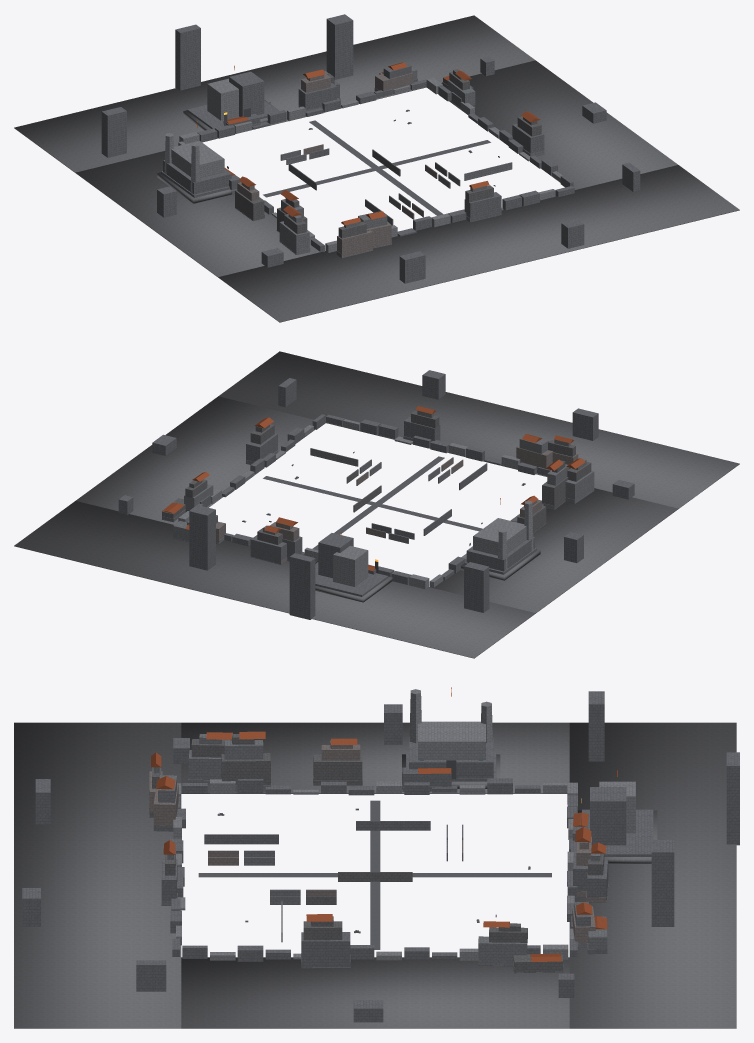
The picture shows the model from 3 angles, top to bottom: view 1: azimuth 30°, elevation 25°; view 2: azimuth 150°, elevation 25°; view 3: azimuth 270°, elevation 25°; orthographic projection. The views are drawn at different scales.
Visible parts, largest first — view 1: HB_z01_LOD2_terrain, HB_z01_LOD2_wall_alt, HB_z01_LOD2_wall_cool, HB_z01_LOD2_wall_warm, HB_z01_LOD2_wall_weathered, HB_z01_LOD2_wall, HB_z01_LOD2_LANDMARK_1_wall, HB_z01_LOD2_road, HB_z01_LOD2_LANDMARK_0_wall_alt, HB_z01_LOD2_roof, HB_z01_LOD2_LANDMARK_1_wall_alt, HB_z01_LOD2_LANDMARK_0_wall; view 2: HB_z01_LOD2_terrain, HB_z01_LOD2_wall_alt, HB_z01_LOD2_wall_cool, HB_z01_LOD2_wall_weathered, HB_z01_LOD2_LANDMARK_1_wall, HB_z01_LOD2_wall_warm, HB_z01_LOD2_LANDMARK_0_wall_alt, HB_z01_LOD2_wall, HB_z01_LOD2_road, HB_z01_LOD2_LANDMARK_0_wall, HB_z01_LOD2_roof, HB_z01_LOD2_LANDMARK_1_wall_alt; view 3: HB_z01_LOD2_terrain, HB_z01_LOD2_wall_alt, HB_z01_LOD2_wall_weathered, HB_z01_LOD2_wall_cool, HB_z01_LOD2_wall, HB_z01_LOD2_LANDMARK_1_wall, HB_z01_LOD2_LANDMARK_0_wall_alt, HB_z01_LOD2_wall_warm, HB_z01_LOD2_roof, HB_z01_LOD2_road, HB_z01_LOD2_LANDMARK_1_wall_alt, HB_z01_LOD2_LANDMARK_0_wall.
Part boxes in pixels (box(x1,y1,x2,y2)): HB_z01_LOD2_terrain: box(14, 15, 739, 322); HB_z01_LOD2_wall_alt: box(101, 14, 640, 283); HB_z01_LOD2_wall_cool: box(252, 66, 544, 254); HB_z01_LOD2_wall_warm: box(237, 72, 437, 257); HB_z01_LOD2_wall_weathered: box(235, 69, 541, 257); HB_z01_LOD2_wall: box(178, 78, 562, 252); HB_z01_LOD2_LANDMARK_1_wall: box(164, 133, 224, 193); HB_z01_LOD2_road: box(263, 120, 490, 215); HB_z01_LOD2_LANDMARK_0_wall_alt: box(187, 71, 278, 129); HB_z01_LOD2_roof: box(224, 62, 540, 225); HB_z01_LOD2_LANDMARK_1_wall_alt: box(161, 160, 231, 197); HB_z01_LOD2_LANDMARK_0_wall: box(207, 78, 238, 120); HB_z01_LOD2_terrain: box(14, 351, 739, 658); HB_z01_LOD2_wall_alt: box(118, 370, 634, 619); HB_z01_LOD2_wall_cool: box(173, 410, 594, 543); HB_z01_LOD2_wall_weathered: box(162, 411, 591, 544); HB_z01_LOD2_LANDMARK_1_wall: box(473, 500, 533, 570); HB_z01_LOD2_wall_warm: box(187, 445, 578, 564); HB_z01_LOD2_LANDMARK_0_wall_alt: box(315, 533, 388, 596); HB_z01_LOD2_wall: box(178, 419, 520, 589); HB_z01_LOD2_road: box(263, 456, 482, 550); HB_z01_LOD2_LANDMARK_0_wall: box(333, 546, 368, 586); HB_z01_LOD2_roof: box(162, 406, 585, 570); HB_z01_LOD2_LANDMARK_1_wall_alt: box(464, 537, 536, 574); HB_z01_LOD2_terrain: box(14, 722, 736, 1028); HB_z01_LOD2_wall_alt: box(22, 691, 739, 1022); HB_z01_LOD2_wall_weathered: box(149, 734, 604, 972); HB_z01_LOD2_wall_cool: box(154, 734, 607, 967); HB_z01_LOD2_wall: box(173, 779, 577, 960); HB_z01_LOD2_LANDMARK_1_wall: box(409, 689, 492, 759); HB_z01_LOD2_LANDMARK_0_wall_alt: box(582, 787, 653, 856); HB_z01_LOD2_wall_warm: box(149, 740, 606, 943); HB_z01_LOD2_roof: box(151, 731, 607, 961); HB_z01_LOD2_road: box(198, 800, 551, 949); HB_z01_LOD2_LANDMARK_1_wall_alt: box(406, 737, 496, 781); HB_z01_LOD2_LANDMARK_0_wall: box(599, 781, 635, 833).
Bounding box in the file's own units: 562 × 75.89 × 565.
13 materials, 11 textured.
